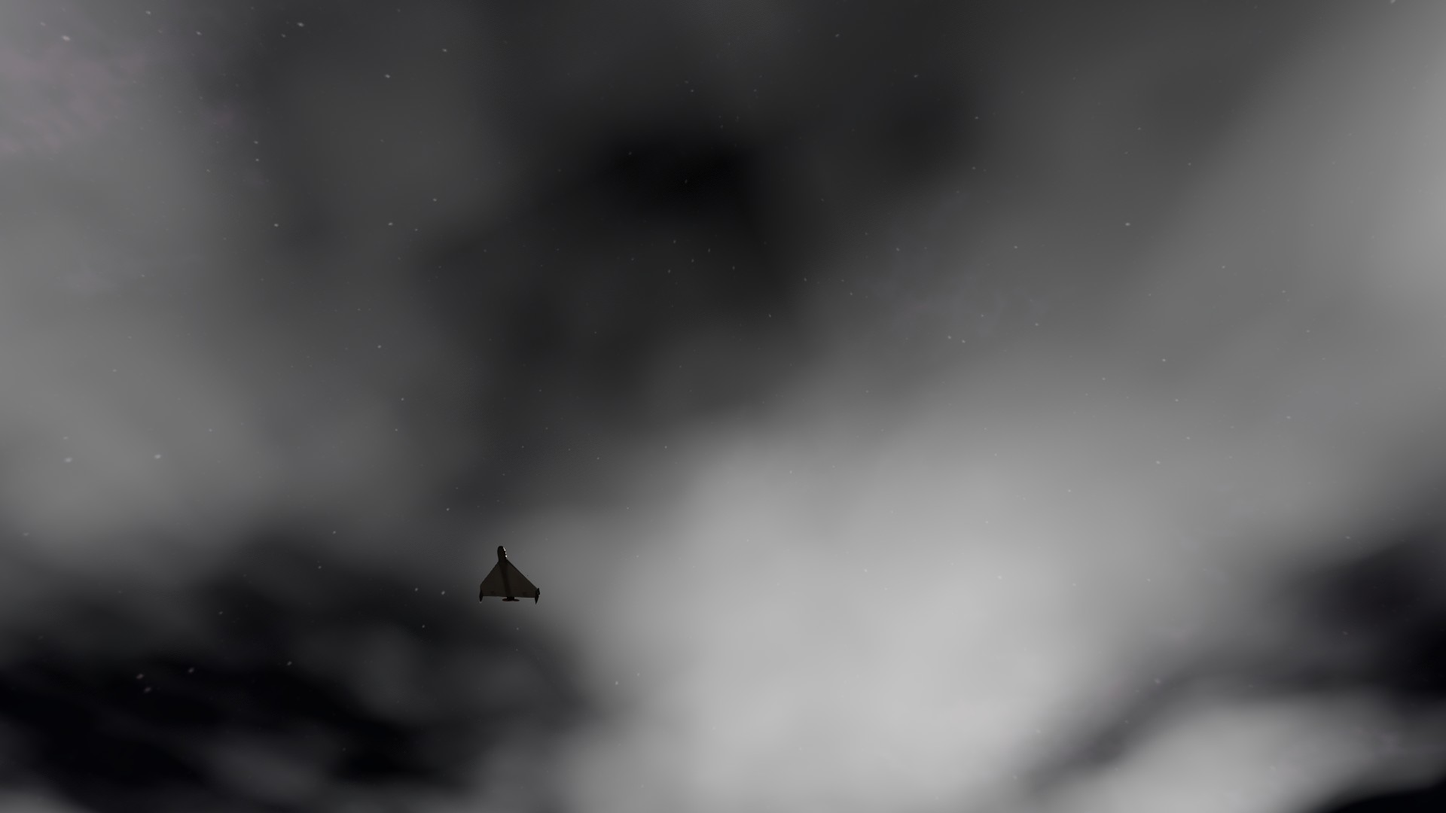shahed: (479, 546, 540, 604)
